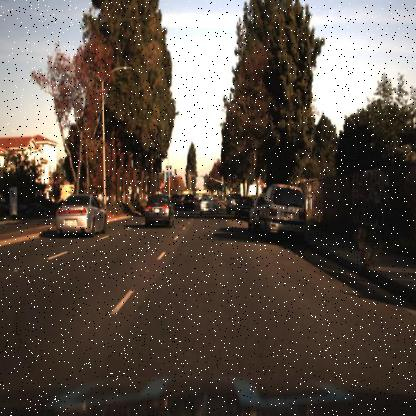car: (258, 182, 307, 244), (52, 190, 114, 237), (140, 194, 176, 230), (245, 194, 265, 232), (24, 199, 48, 219), (197, 193, 215, 217), (233, 196, 249, 222), (181, 196, 196, 218), (168, 190, 182, 211)
